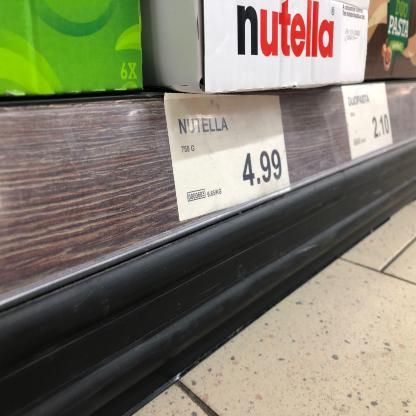prtg: (164, 91, 291, 224), (342, 83, 395, 161)
